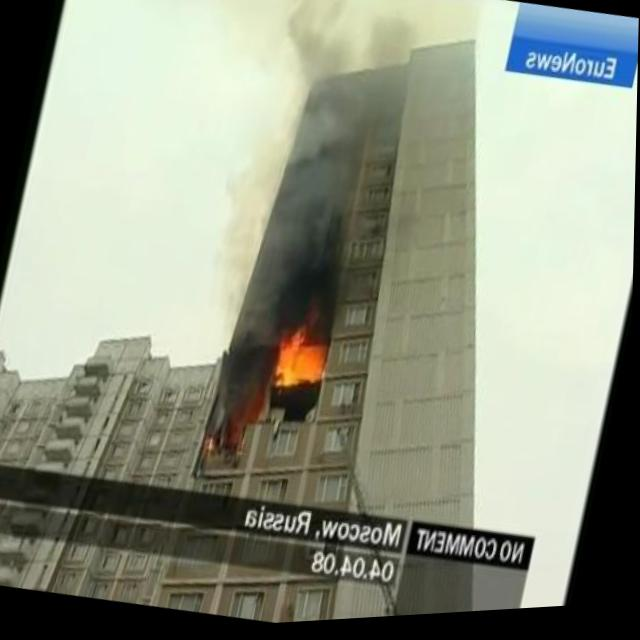fire: (268, 318, 337, 400)
